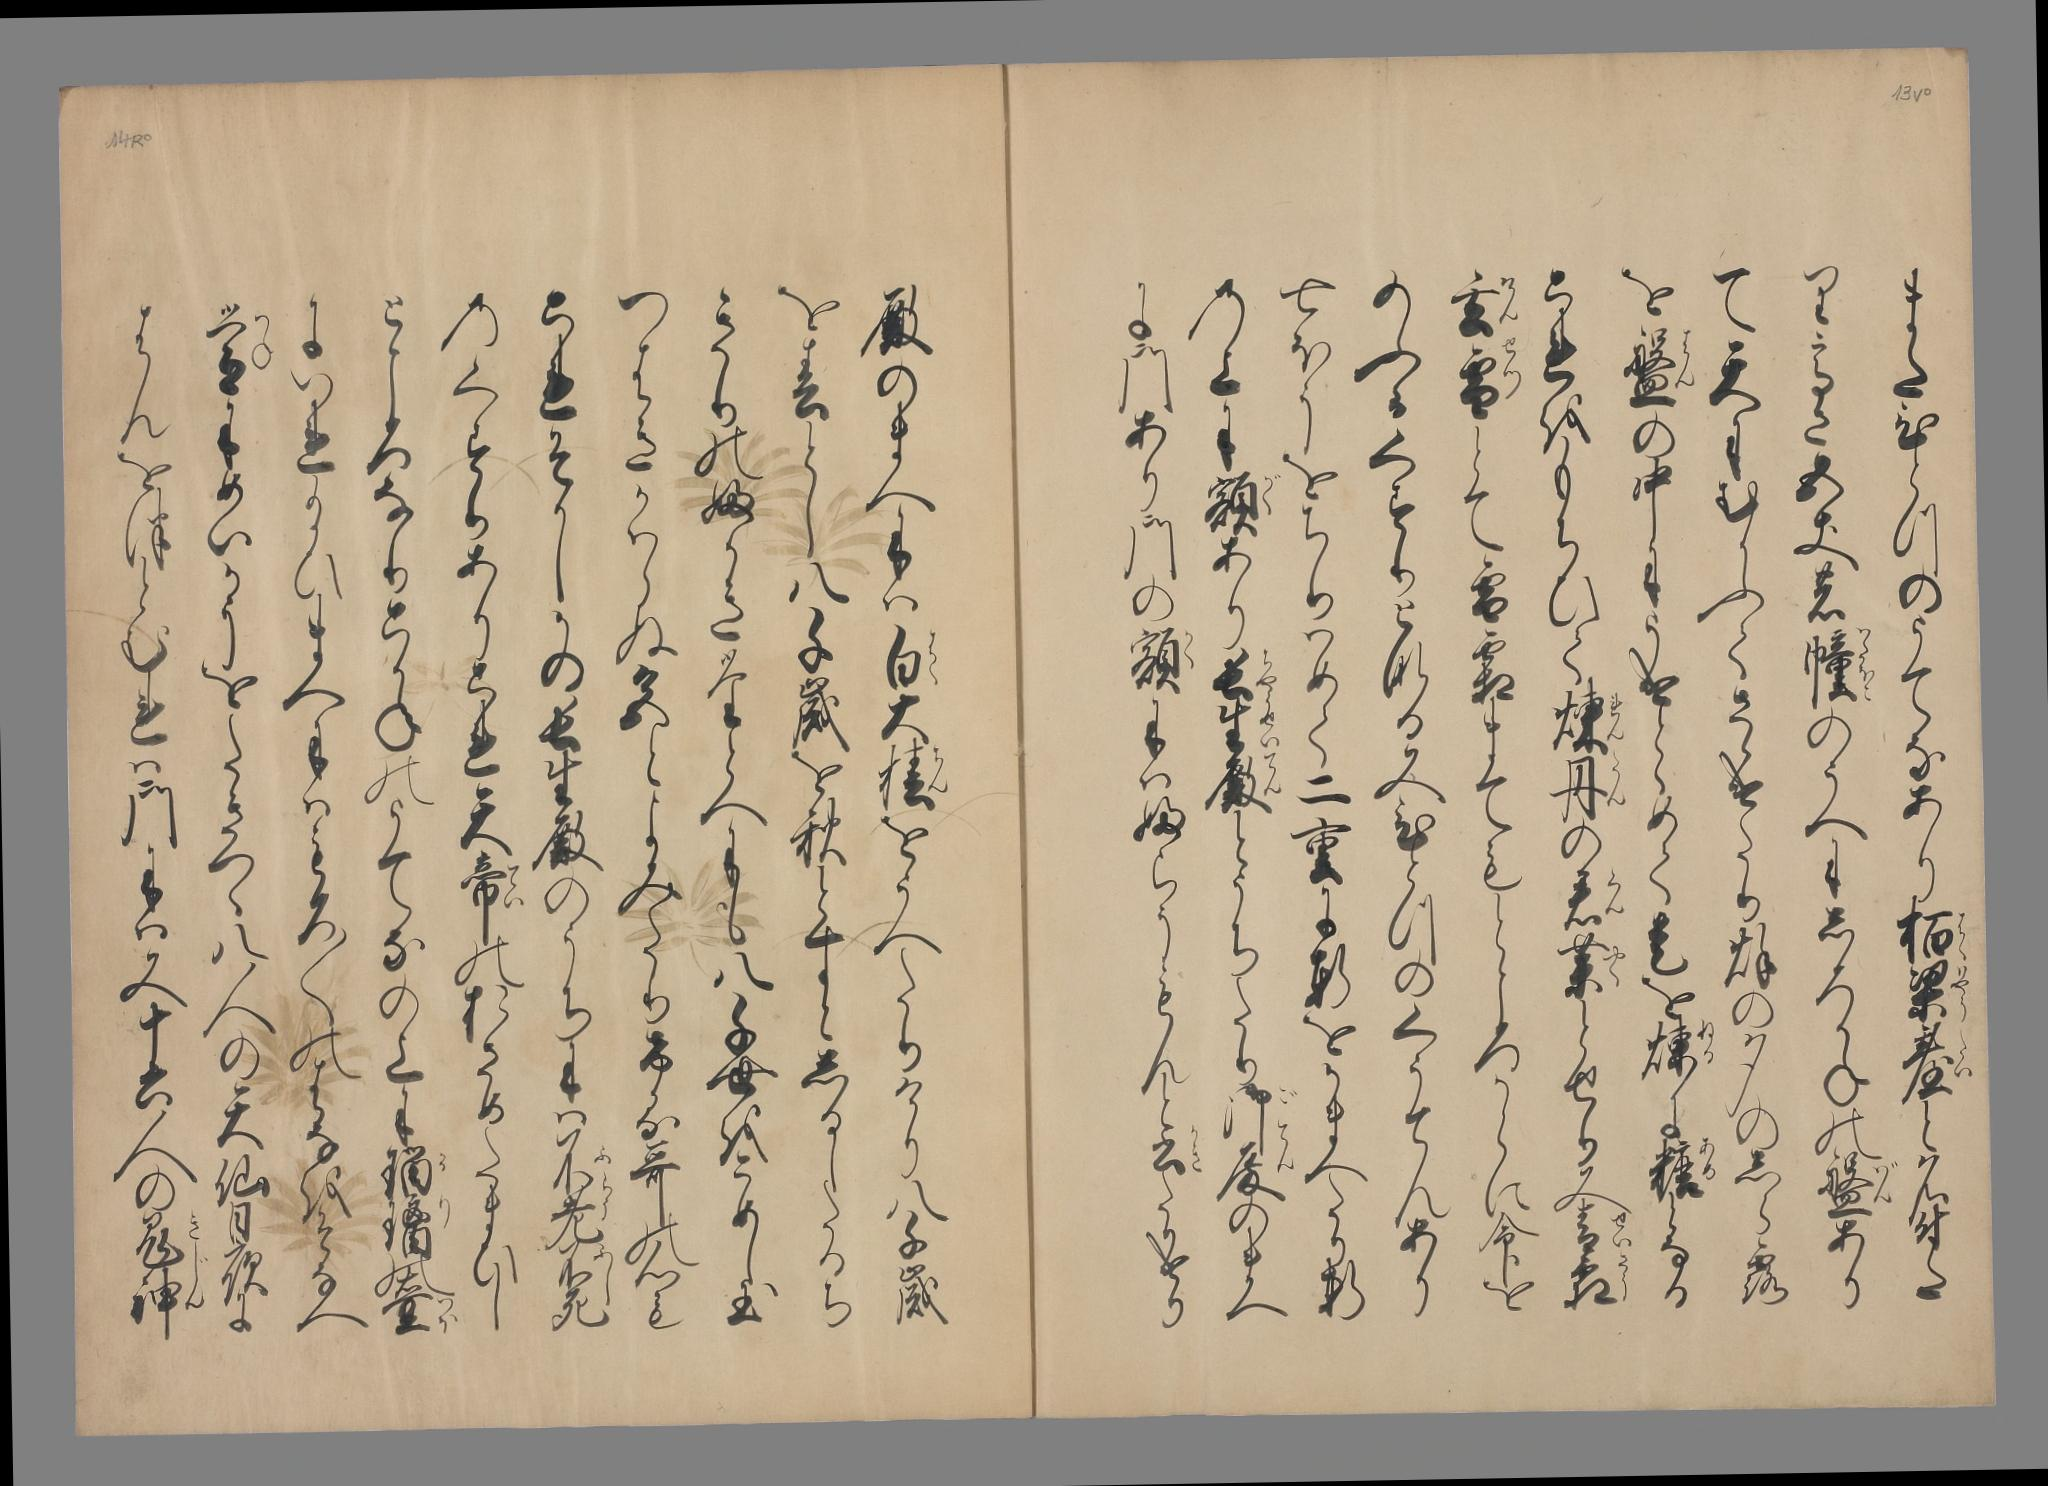MainZone-Character: (1792, 621, 1881, 712), (118, 1252, 210, 1335), (205, 302, 278, 401), (1620, 324, 1698, 413), (1220, 1119, 1301, 1203), (1813, 1149, 1899, 1224), (1450, 337, 1528, 418), (1542, 682, 1627, 757), (870, 739, 951, 814), (1899, 1025, 1976, 1101), (1547, 931, 1630, 1003), (1444, 261, 1520, 337), (458, 853, 534, 928), (1549, 863, 1631, 931), (1638, 1135, 1722, 1202), (1199, 470, 1283, 537), (1205, 753, 1291, 818), (1549, 753, 1628, 822), (870, 617, 948, 685), (375, 1195, 453, 1262), (544, 1174, 615, 1244), (1638, 1019, 1722, 1078), (1560, 1249, 1638, 1313), (1124, 623, 1197, 690), (1894, 904, 1975, 962), (1902, 962, 1973, 1024), (127, 1211, 200, 1268), (1220, 1082, 1304, 1132), (378, 1140, 450, 1197), (372, 1292, 460, 1338), (1563, 1198, 1633, 1251), (1215, 701, 1283, 753), (1208, 647, 1278, 698), (552, 1246, 622, 1297), (1145, 1125, 1210, 1179), (552, 1143, 614, 1186)
MainZone-Ruby: (180, 1252, 211, 1314), (1870, 1159, 1902, 1213), (1671, 326, 1697, 391), (251, 312, 275, 377), (1854, 626, 1875, 701), (1603, 755, 1628, 814), (1259, 752, 1286, 804), (1270, 1120, 1296, 1176), (1499, 339, 1523, 397), (1611, 1249, 1638, 1300), (1946, 1035, 1973, 1084), (1496, 269, 1520, 324), (502, 861, 526, 915), (1258, 470, 1286, 515), (1603, 868, 1627, 919), (1604, 693, 1627, 747), (922, 626, 943, 683), (1693, 1019, 1717, 1068), (1256, 699, 1280, 749), (1603, 939, 1628, 985), (1185, 1125, 1207, 1178), (590, 1248, 617, 1291), (925, 744, 948, 795), (1953, 965, 1973, 1016), (432, 1294, 460, 1332), (1608, 1208, 1635, 1244), (1256, 650, 1277, 696), (1700, 1136, 1717, 1186), (598, 1173, 614, 1227), (1954, 907, 1972, 955), (1270, 1082, 1301, 1108), (1178, 628, 1194, 669), (181, 1214, 204, 1243), (590, 1144, 614, 1168), (436, 1195, 453, 1227), (432, 1144, 447, 1174)
